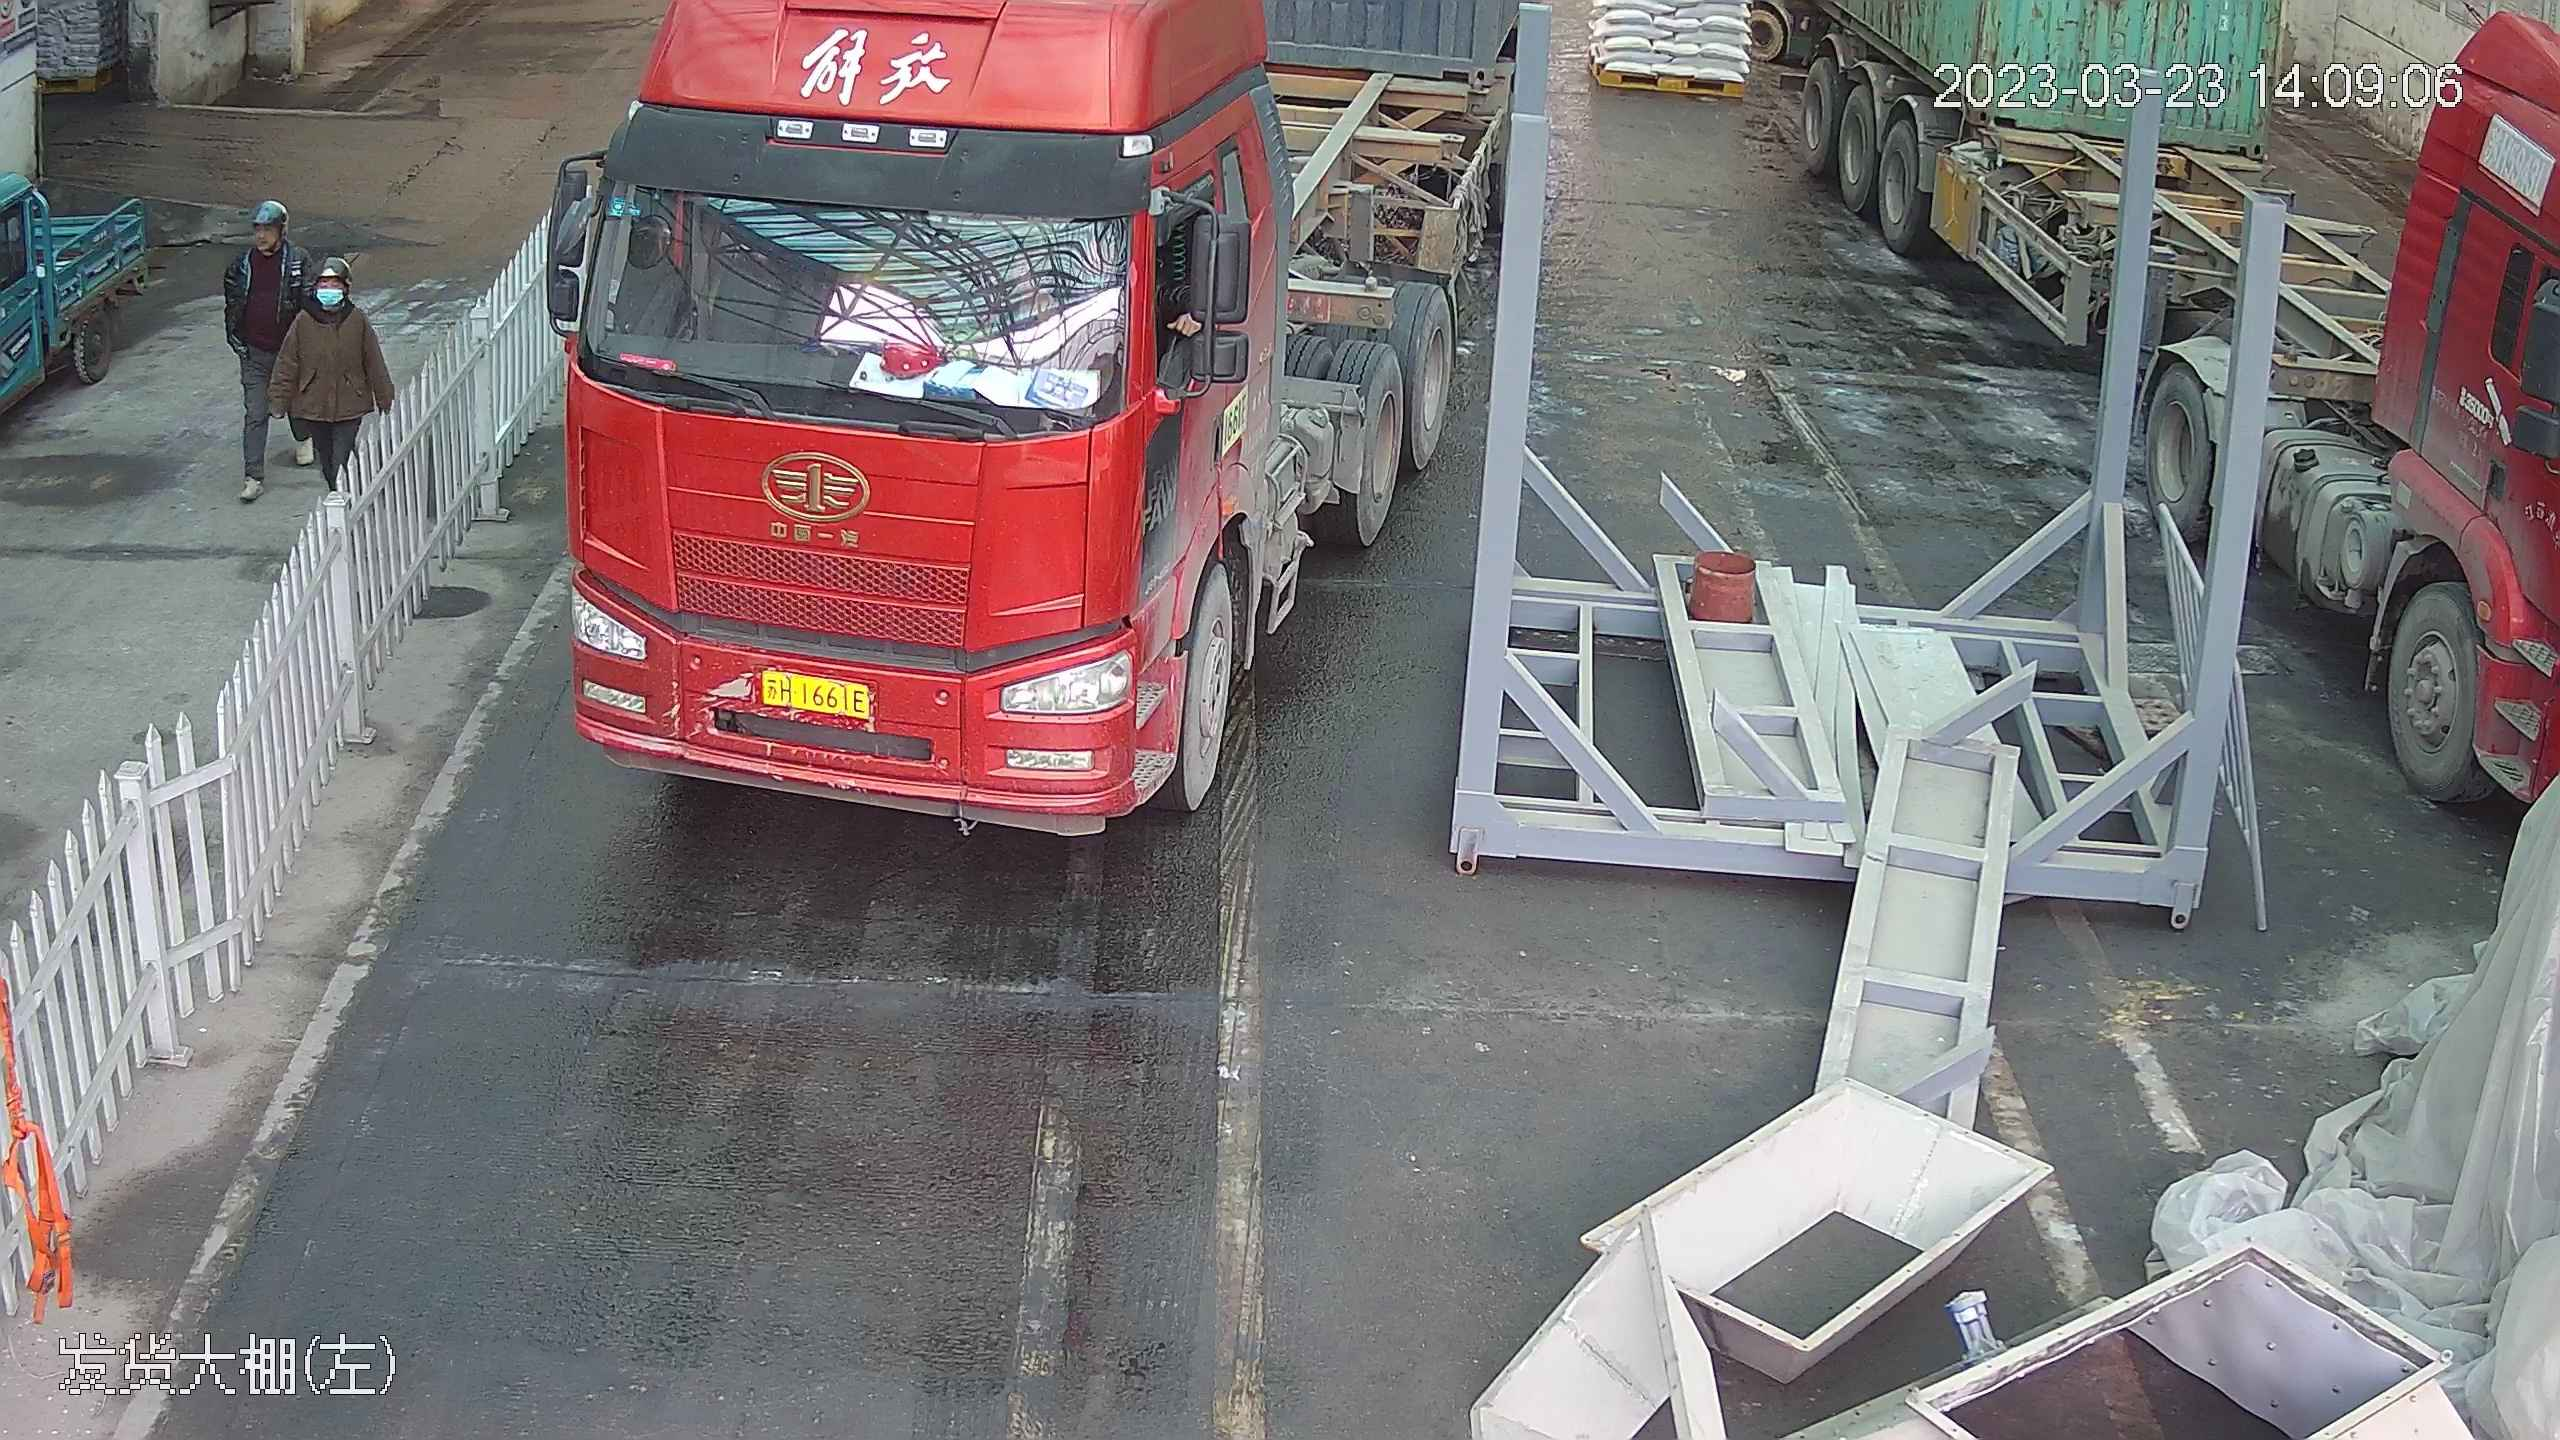head: (287, 258, 370, 343), (229, 193, 295, 283)
helmet: (312, 258, 353, 288), (252, 195, 289, 223)
people: (272, 253, 386, 507), (216, 196, 300, 495)
truck: (527, 0, 1422, 822), (2240, 0, 2558, 919)
